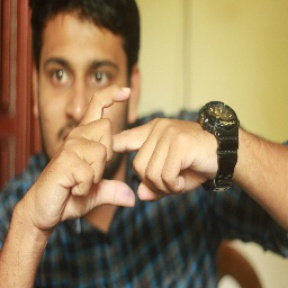E: (62, 83, 168, 214)
